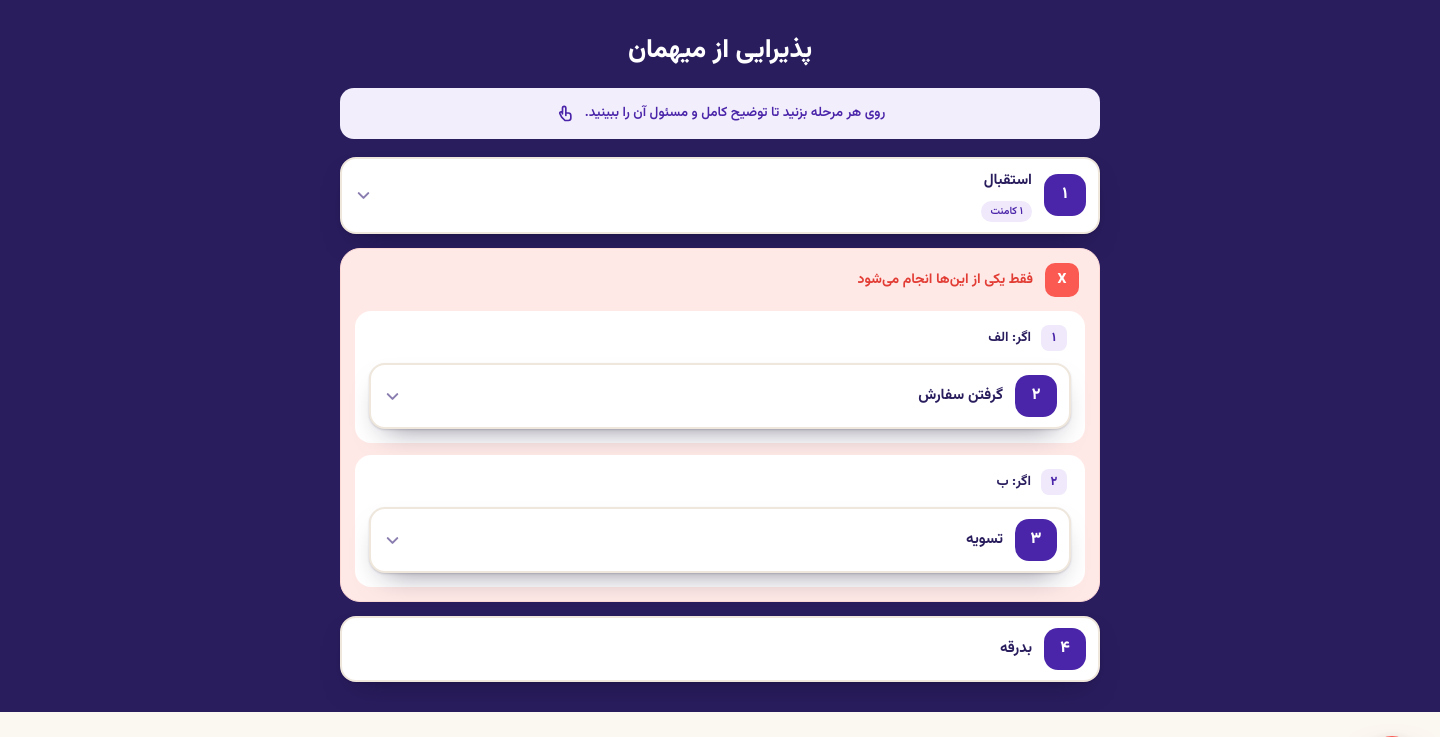
Test: Steps — comments on a step › shows «۱ کامنت» on the right step, and «کامنت روی این گام» in its expanded body
This screenshot has width=1440, height=737.
Expected: the text "۱ کامنت" is shown once, [982,200,1032,222]
Expected: the button "کامنت روی این گام" is not shown
Click the text "استقبال".
click(1008, 180)  # box [984,168,1032,192]
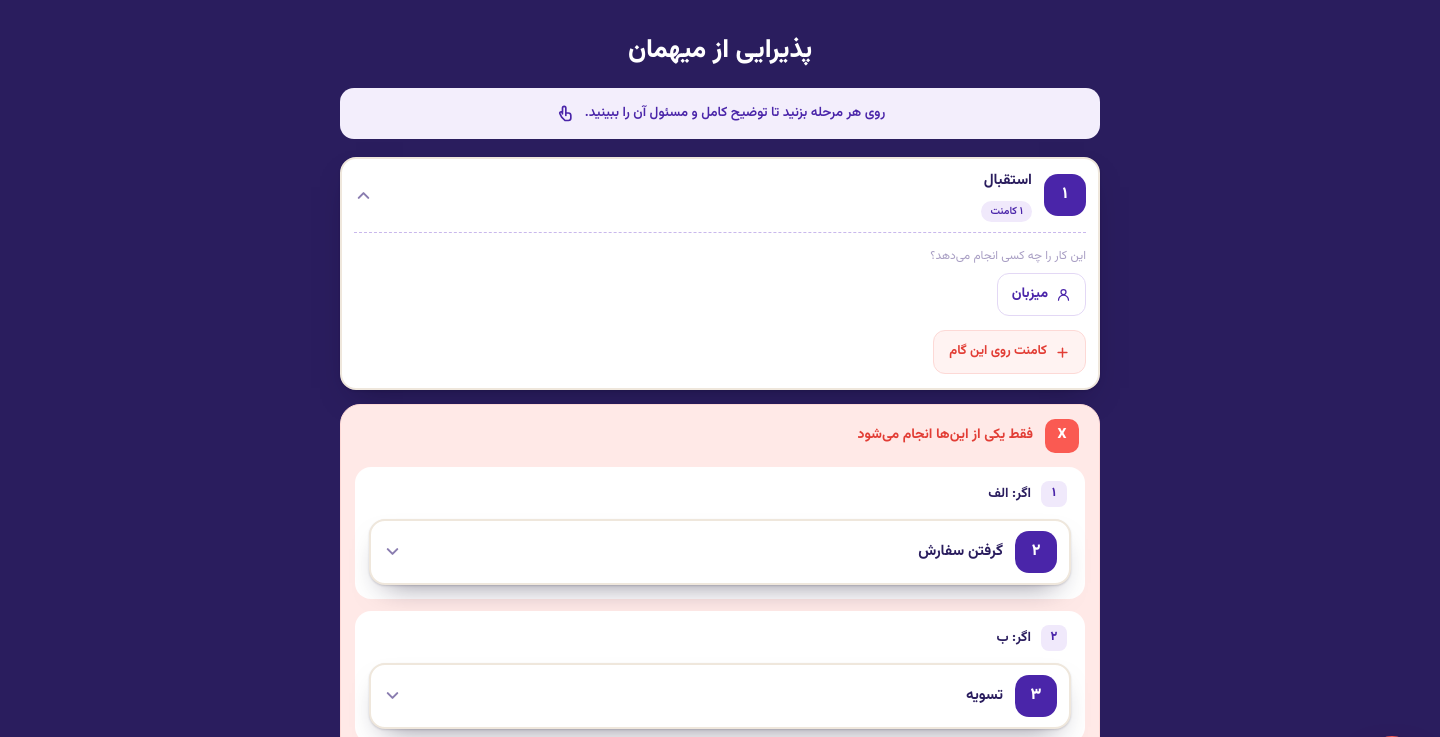
Click the button "کامنت روی این گام".
click(1010, 352)  # box [933,330,1086,374]
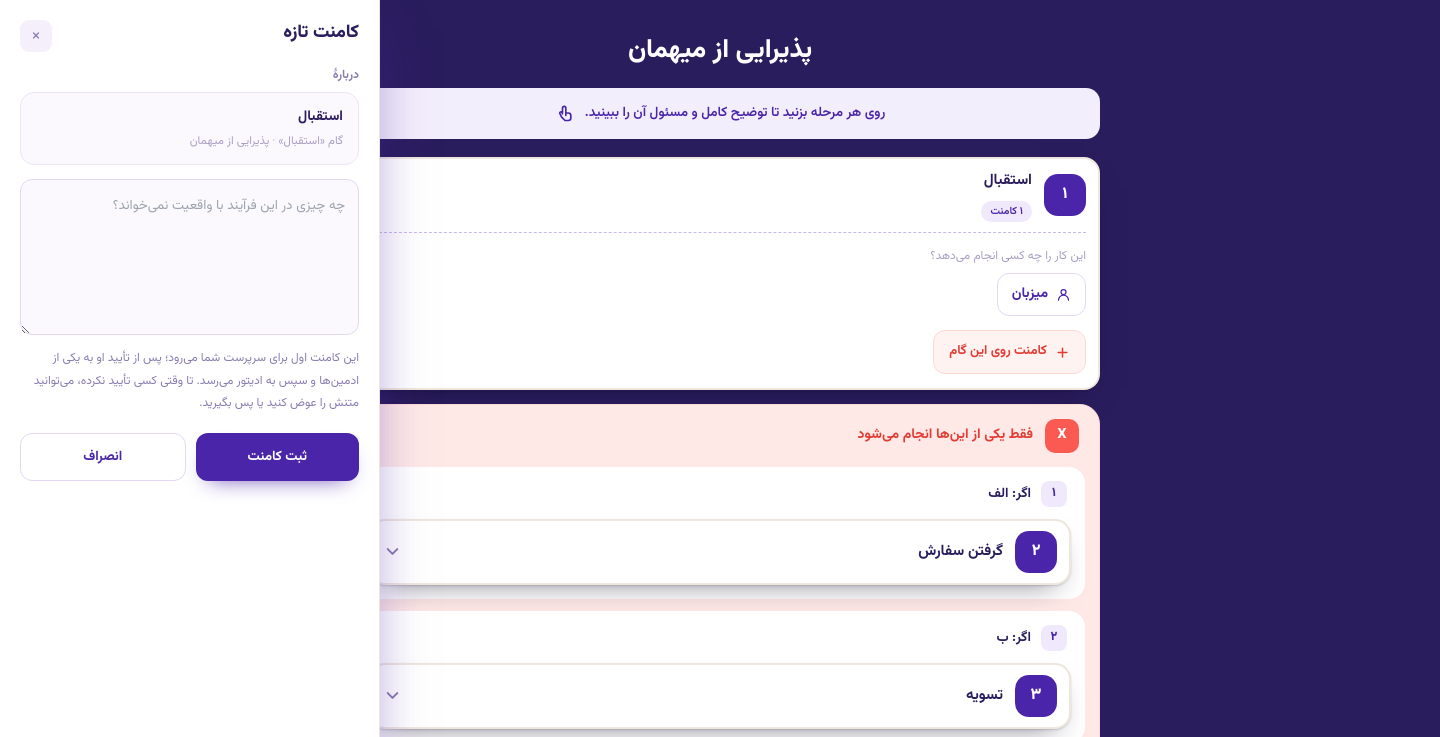
Expected: the text "گام «استقبال» · پذیرایی از میهمان" is shown, [190,132,343,150]
